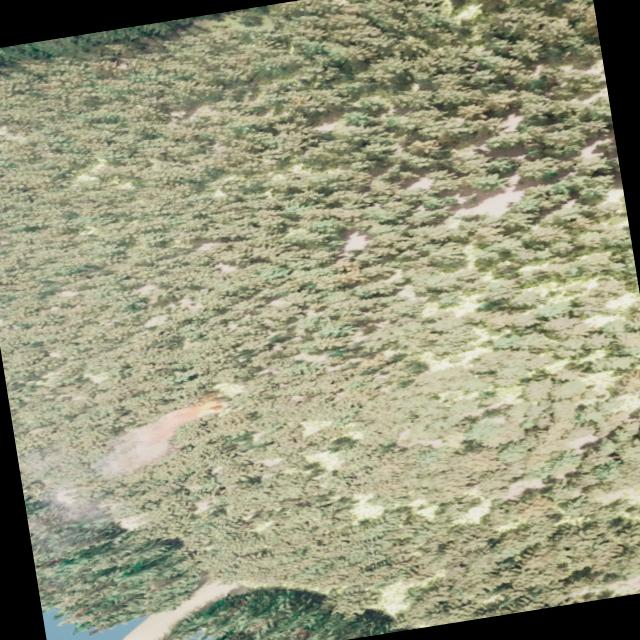fire: (194, 394, 230, 416)
smoke: (89, 403, 200, 478)
